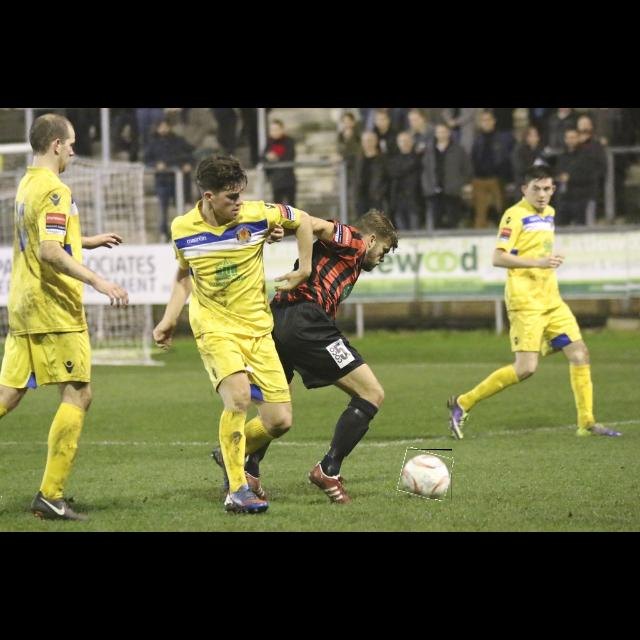Football: (400, 449, 452, 499)
